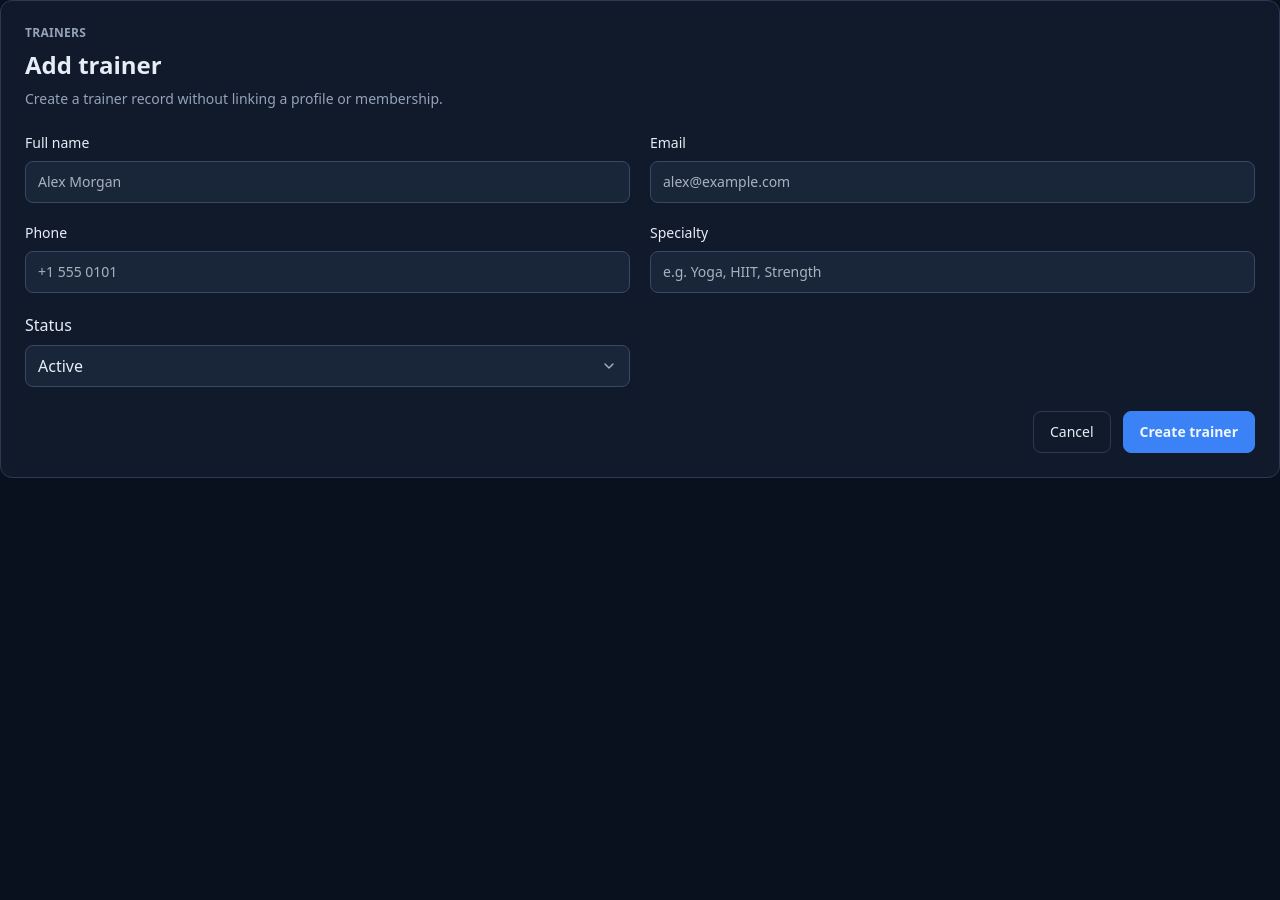
Test: CreateTrainerForm › renders validation errors returned by the action
This screenshot has width=1280, height=900.
Click the button "Create trainer".
click(1189, 432)  # box [1123, 411, 1255, 453]
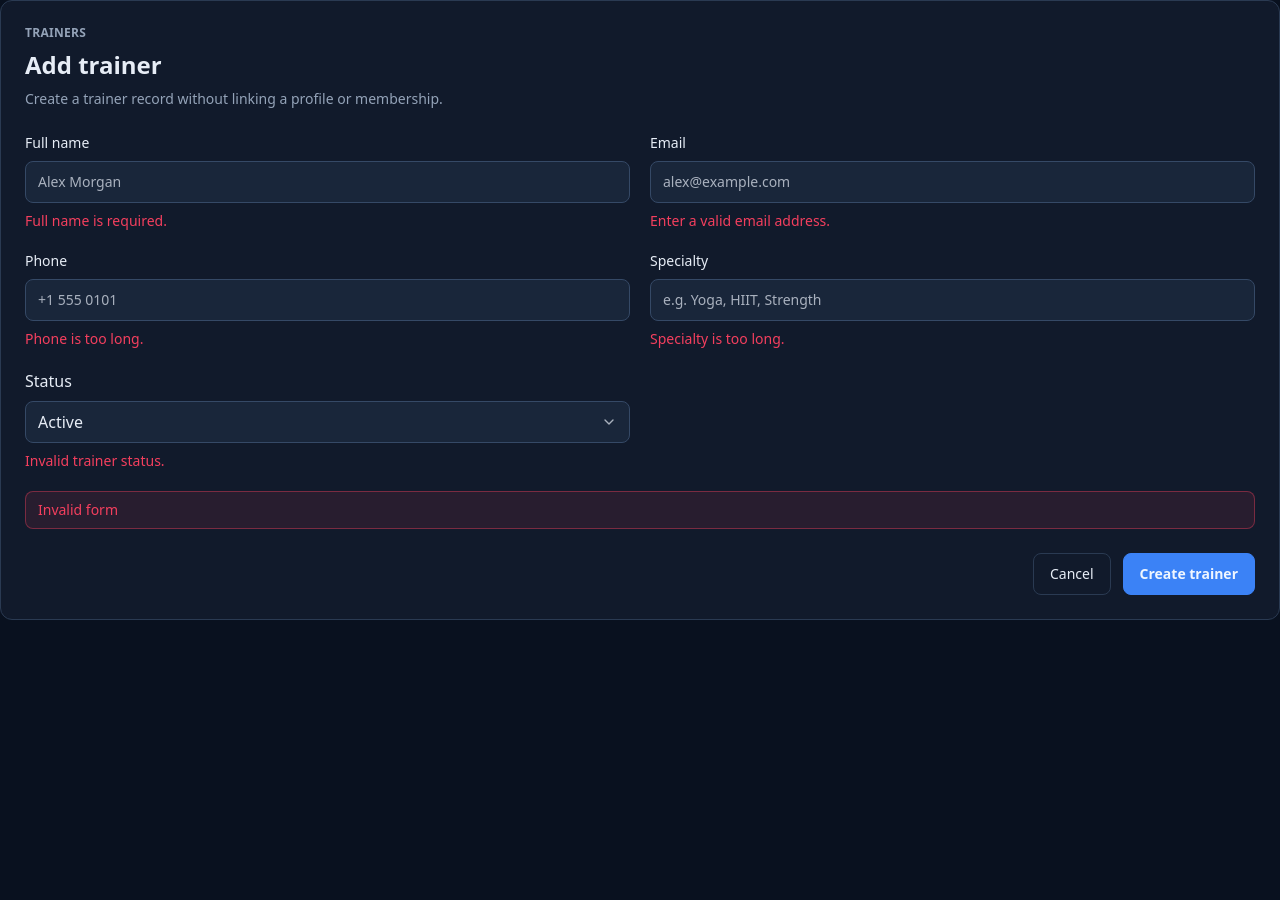
Now the text "Full name is required." is shown, box [25, 211, 167, 230]
Now the text "Enter a valid email address." is shown, box [650, 211, 830, 230]
Now the text "Phone is too long." is shown, box [25, 329, 144, 348]
